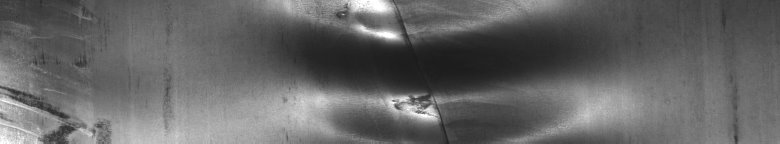ke: (328, 4, 484, 131)
